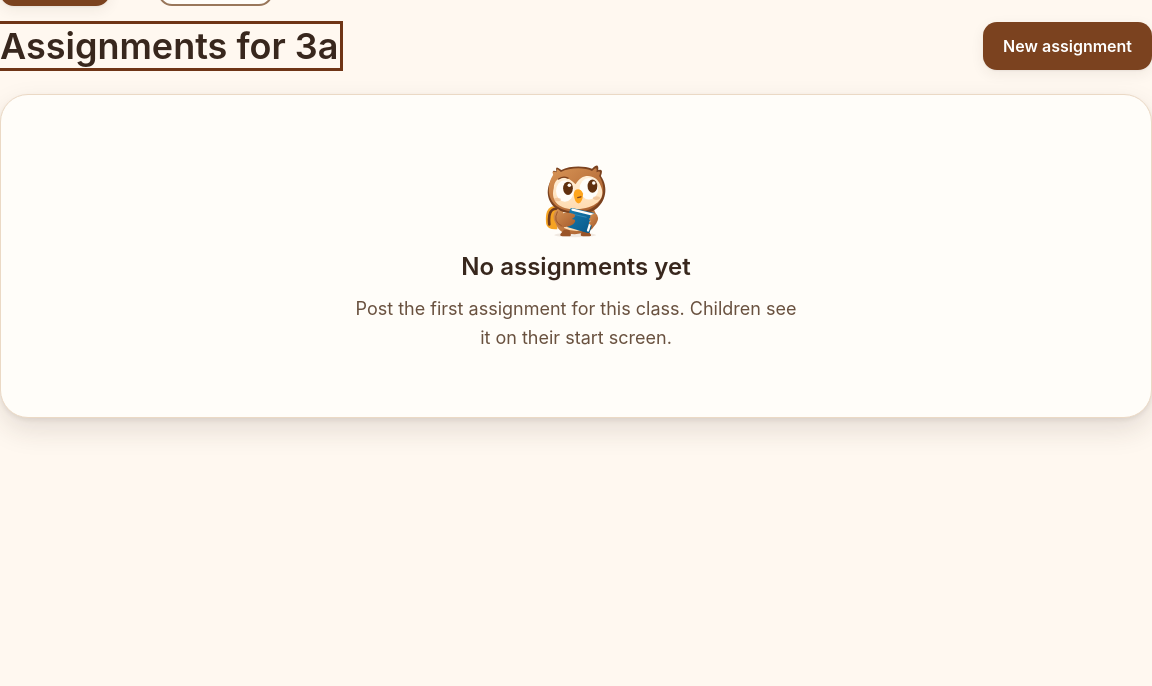
Test: teacher assignment workspace › asks before discarding changes and keeps them when asked to
Click the button "New assignment". click: click(1068, 46)
box: [983,22,1151,70]
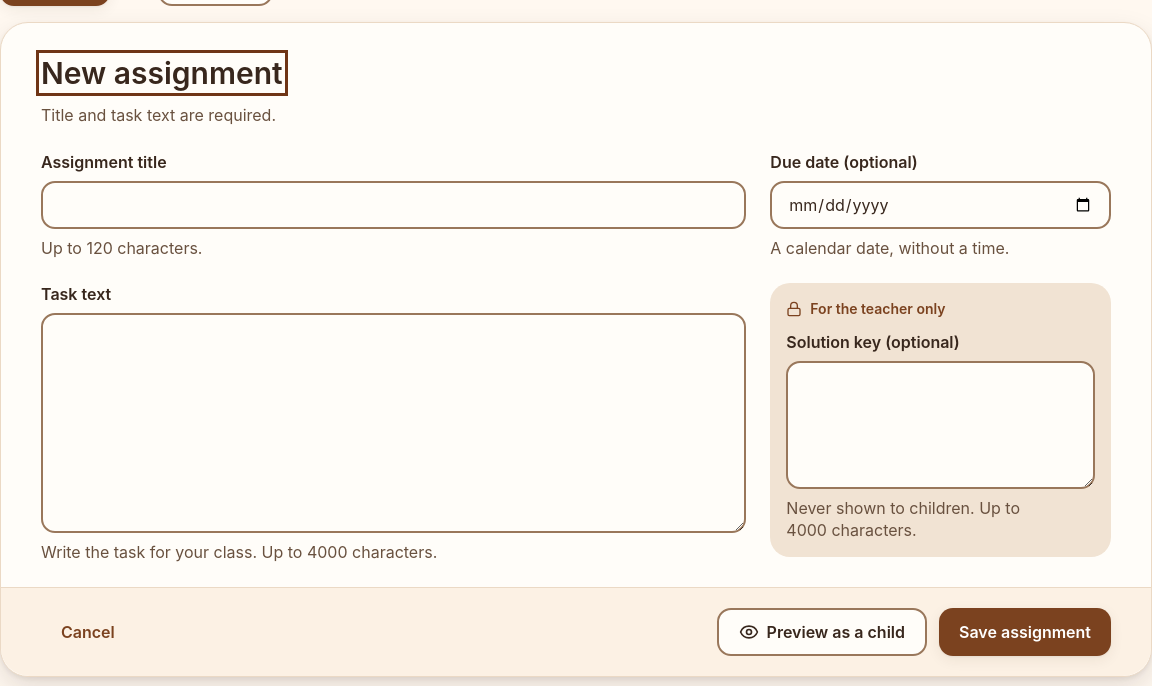
Type "Draft" into the field labelled "Assignment title". click: (394, 205)
box: [41,181,746,229]
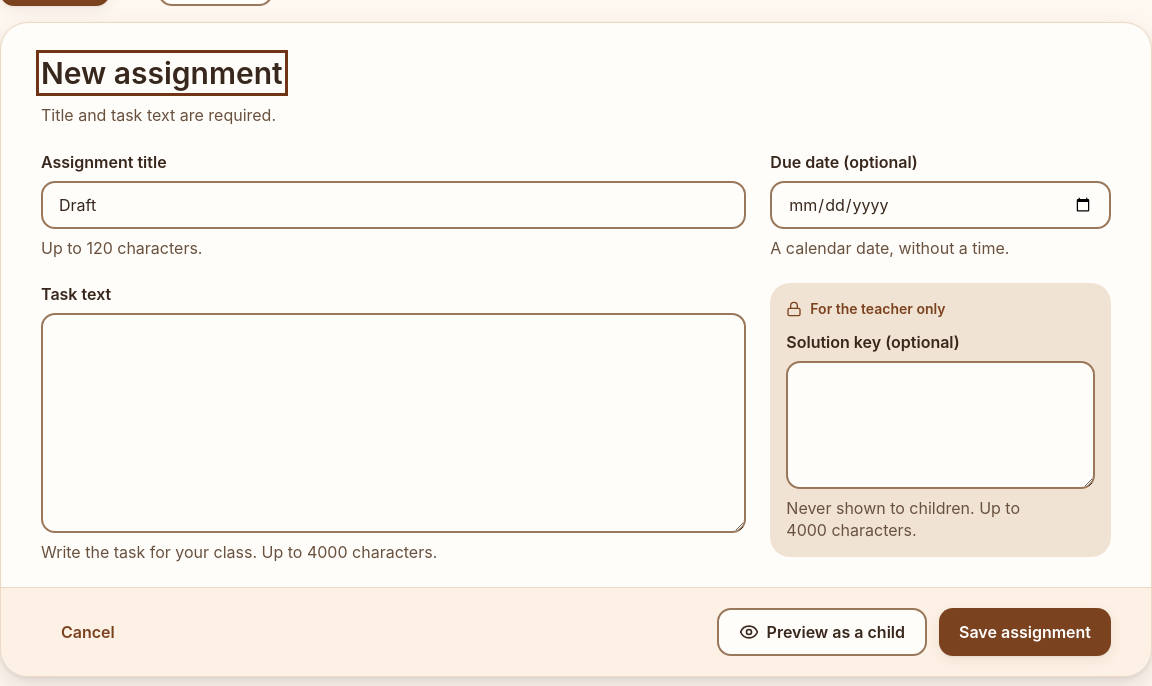
Click the button "Cancel". click: click(88, 632)
box: [41,608,135,656]
(page scrolled)
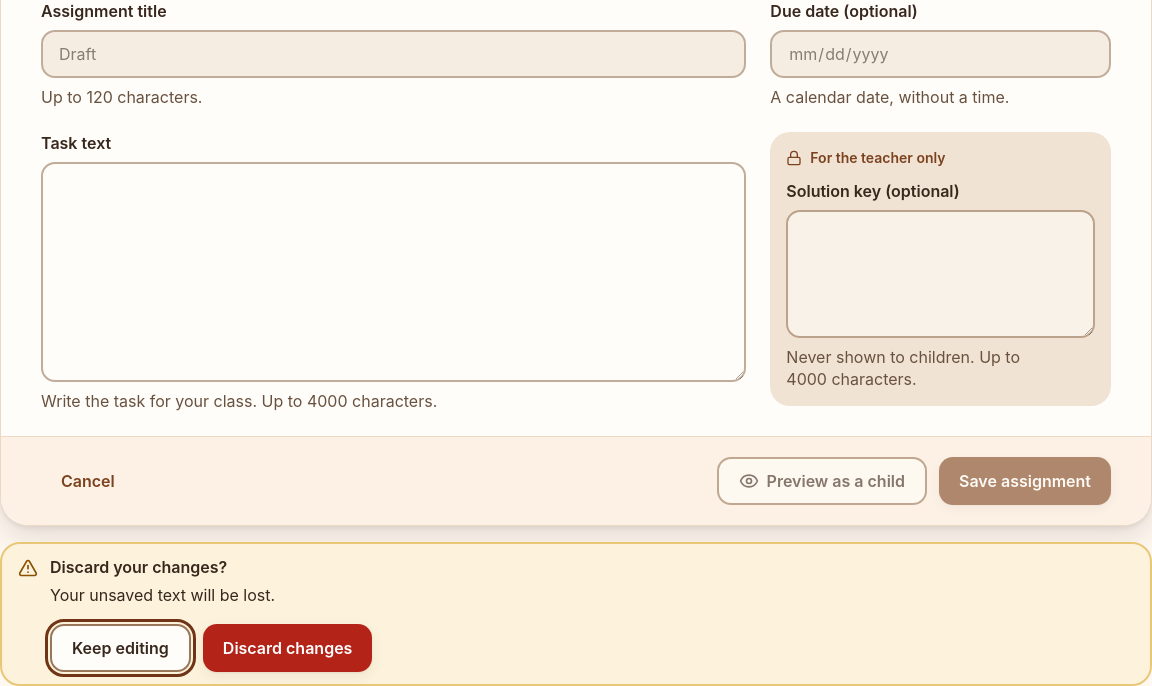
Expected: the message shows "Discard your changes?", [50,557,227,577]
Click the button "Keep editing". click: click(120, 648)
box: [50,624,191,672]
(page scrolled)
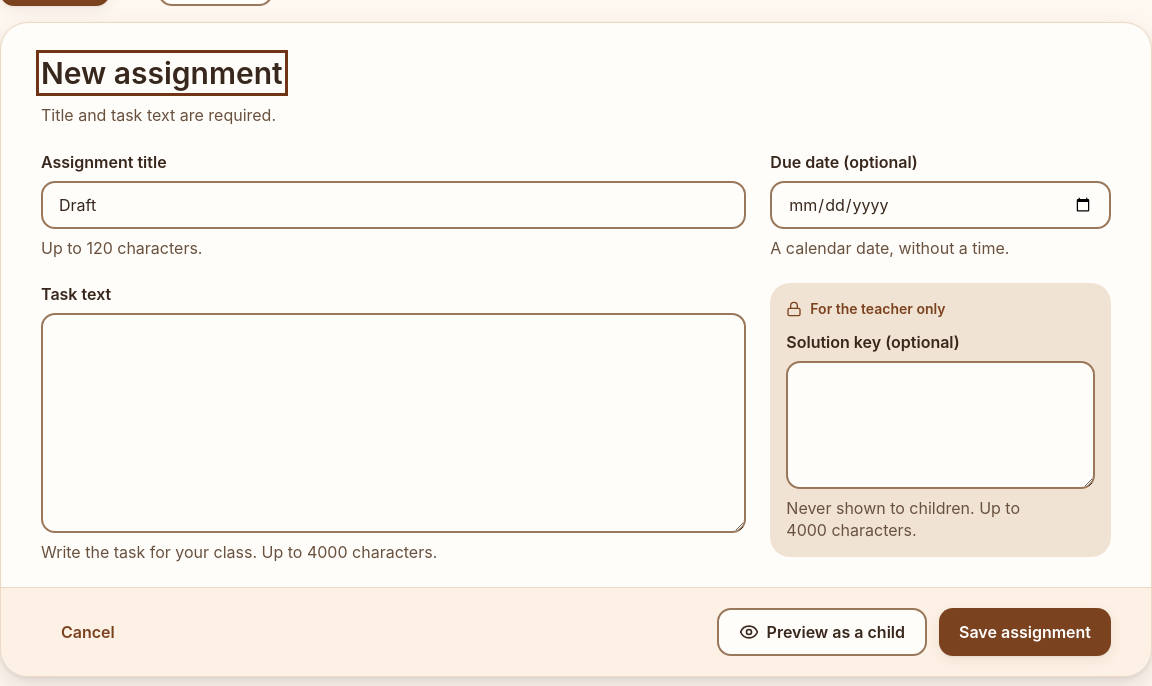
Click the button "Cancel". click: click(88, 632)
box: [41,608,135,656]
(page scrolled)
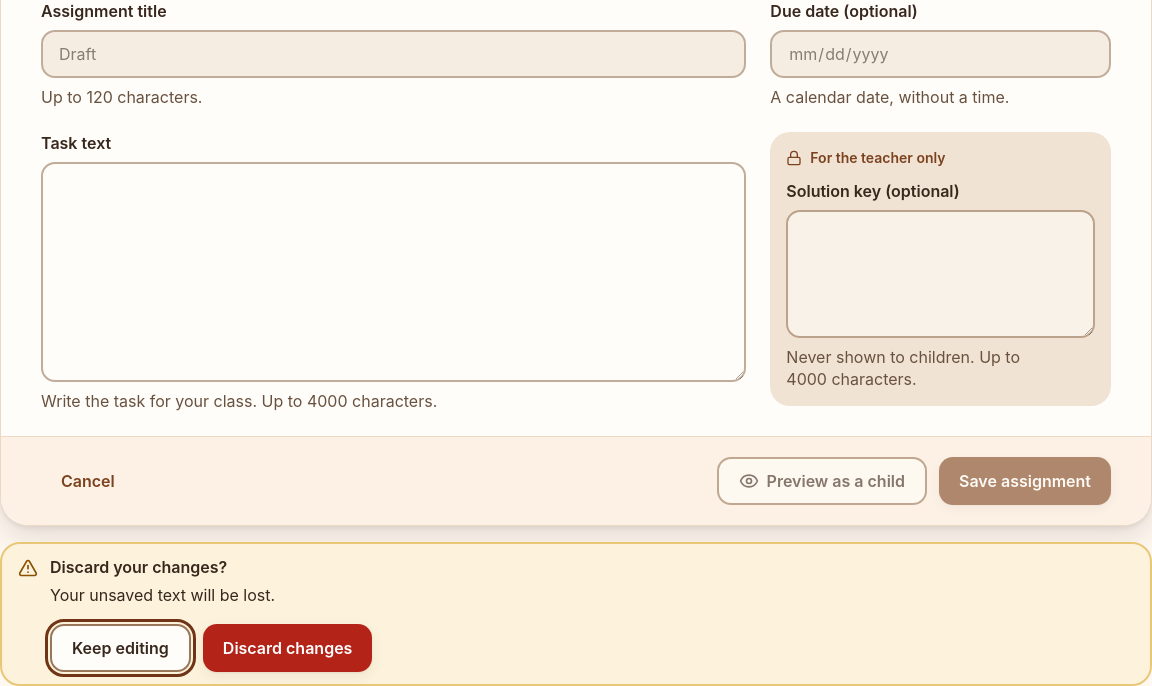
Click the button "Discard changes". click: click(288, 648)
box: [203,624,372,672]
(page scrolled)
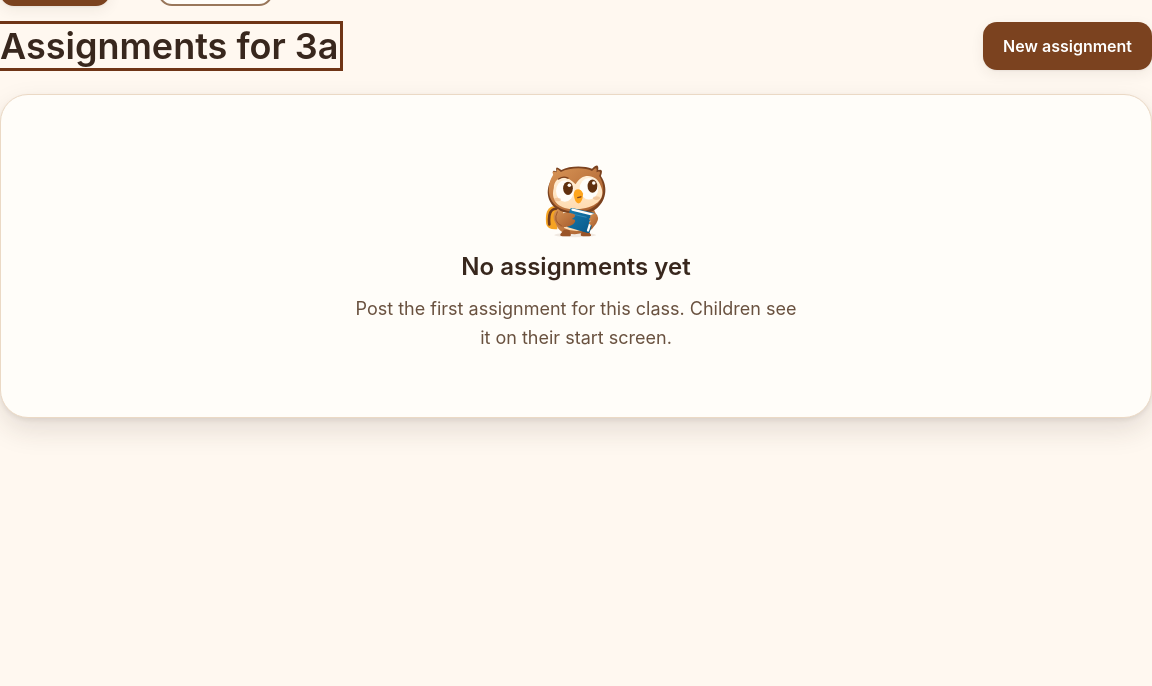
Expected: the heading "No assignments yet" is shown, [461,251,691,283]
